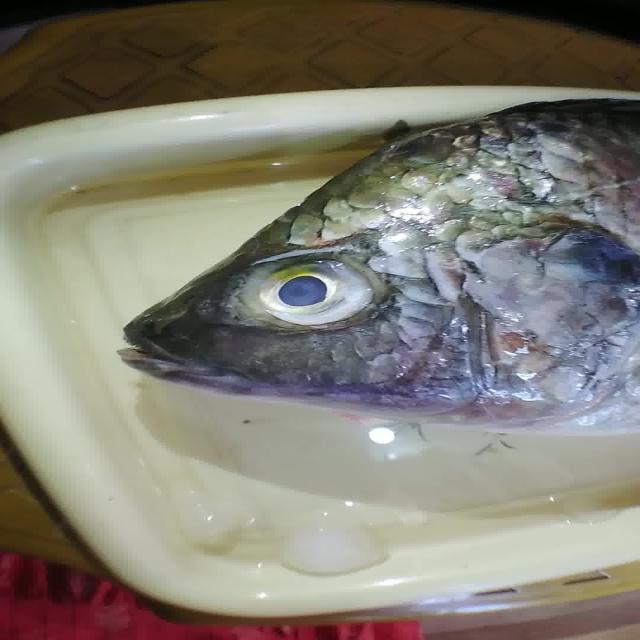Fresh: (235, 248, 400, 348)
